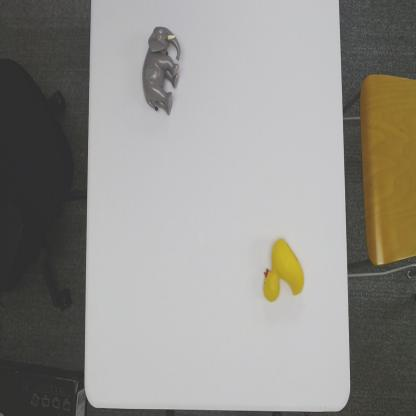Duck: (262, 235, 306, 301)
Elephant: (141, 25, 183, 116)
